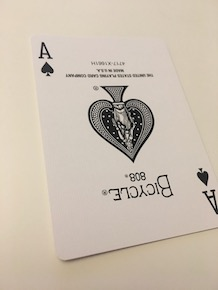AceOfSpades: (27, 27, 218, 263)
